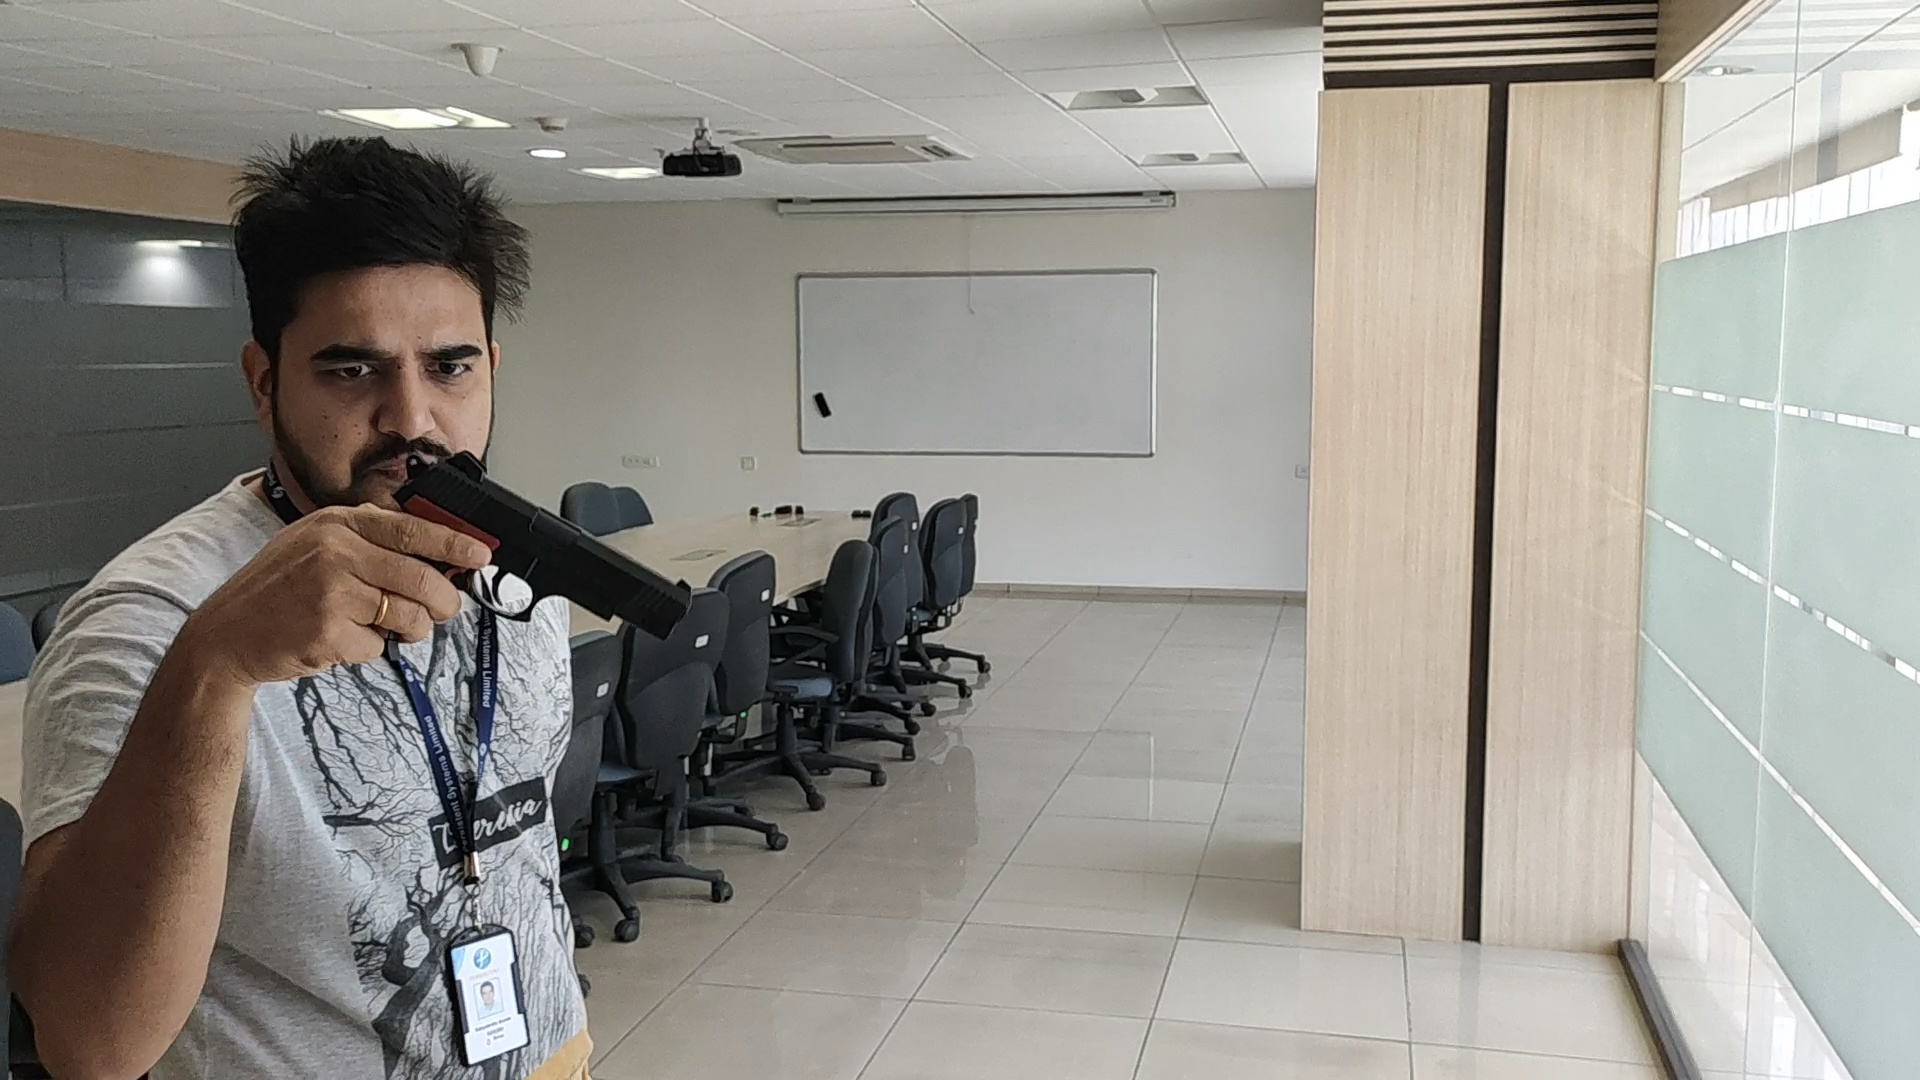gun: (422, 451, 690, 637)
